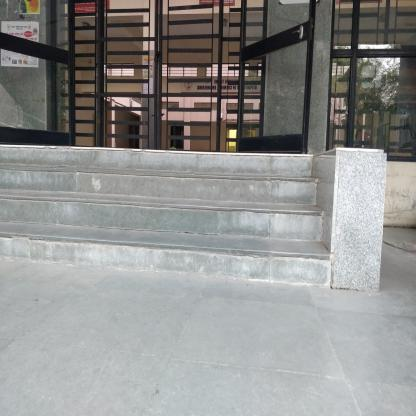stairs: (61, 173, 308, 294)
